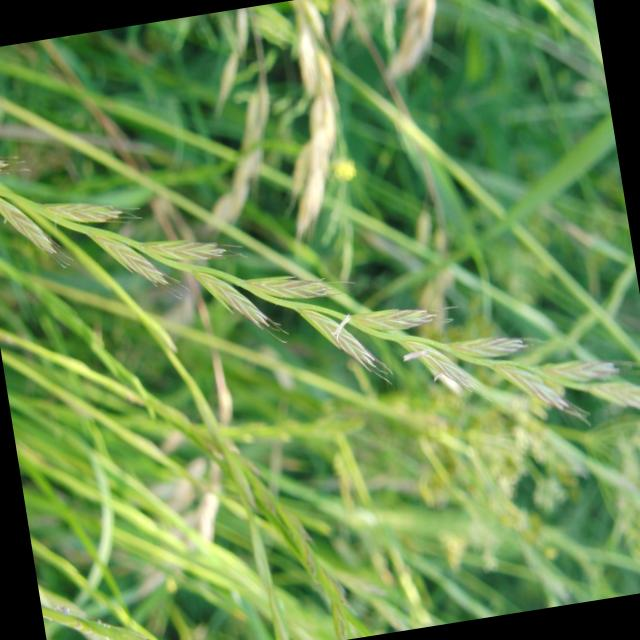Lolium: (0, 61, 640, 516)
